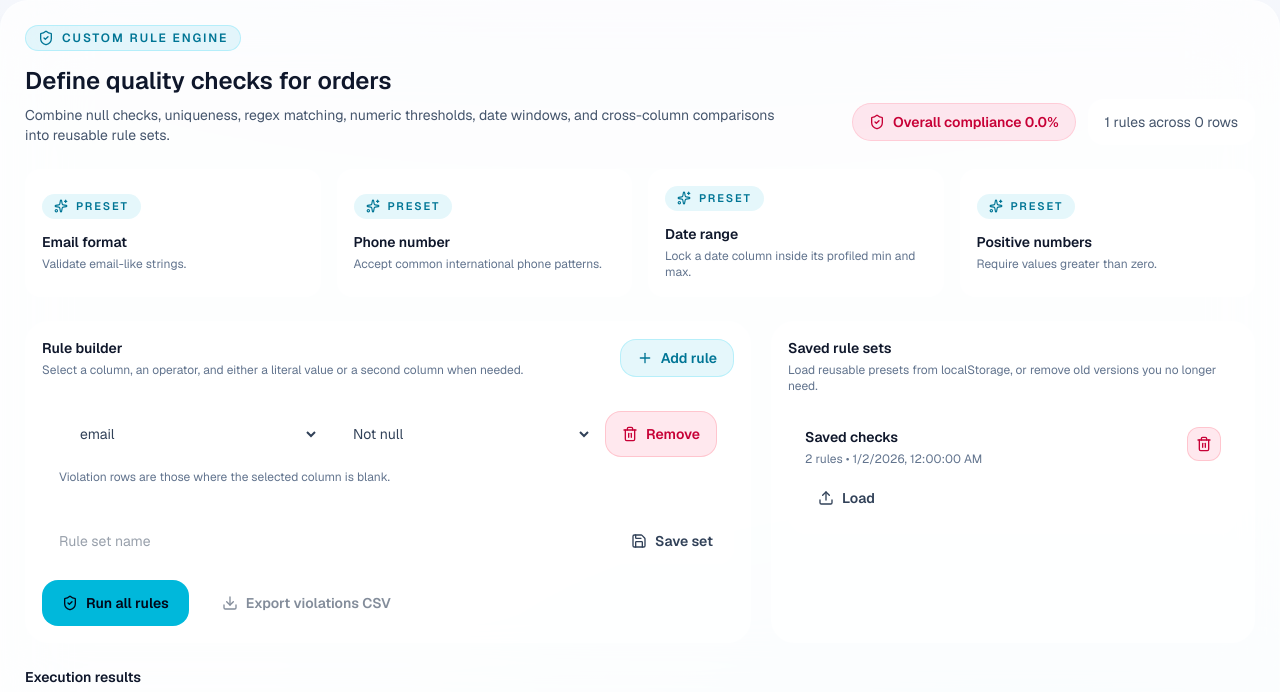
Test: DataQualityRules › loads saved rule sets from localStorage
The width and height of the screenshot is (1280, 692).
Expected: the text "Saved checks" is shown, [805, 428, 898, 446]
Click the button "Load": click(846, 498) [805, 479, 888, 517]
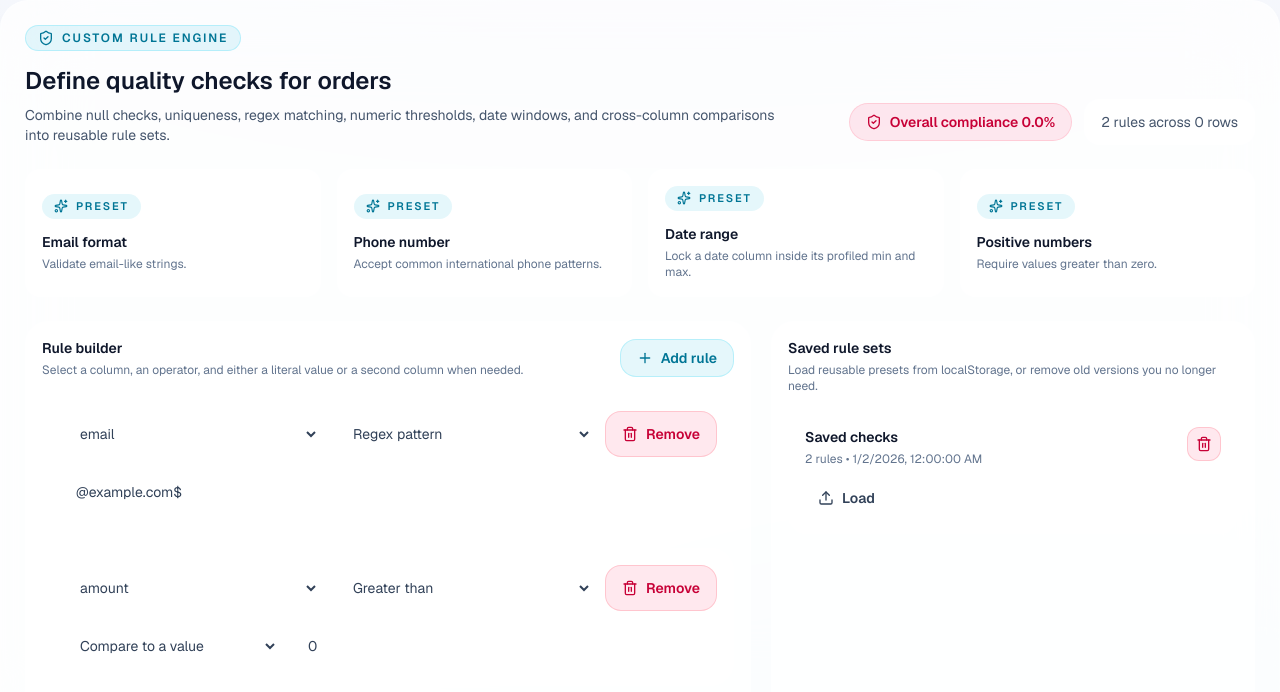
Expected: the 2nd field showing "0" is shown, [291, 623, 717, 669]
Expected: the number of buttons "Remove" is 2, [605, 411, 717, 457]; [605, 565, 717, 611]
Expected: the 1st field showing "@example.com$" is shown, [59, 469, 717, 515]
